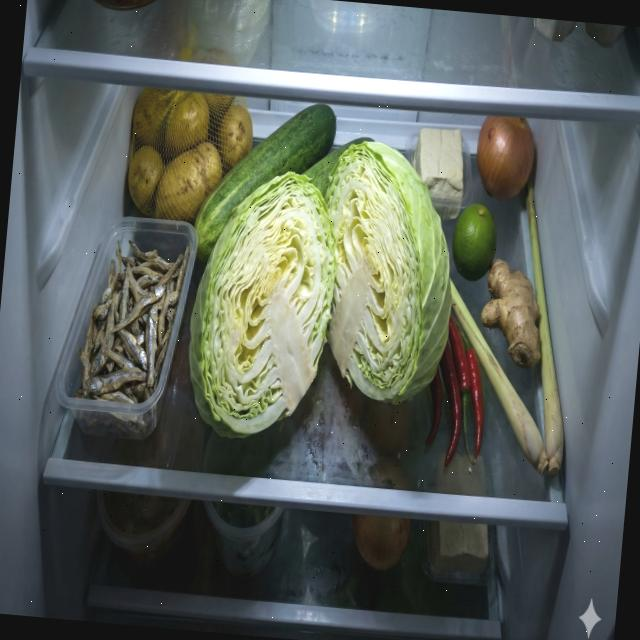anchovies: (69, 235, 190, 440)
cabbage: (180, 164, 343, 447), (308, 137, 466, 409)
chili: (430, 311, 493, 471)
cucumber: (191, 92, 339, 270)
ginger: (476, 256, 550, 370)
lemongrass: (432, 179, 586, 479)
lime: (448, 200, 501, 284)
onion: (472, 112, 538, 205)
potato: (124, 84, 257, 228)
tofu: (408, 124, 469, 222)
